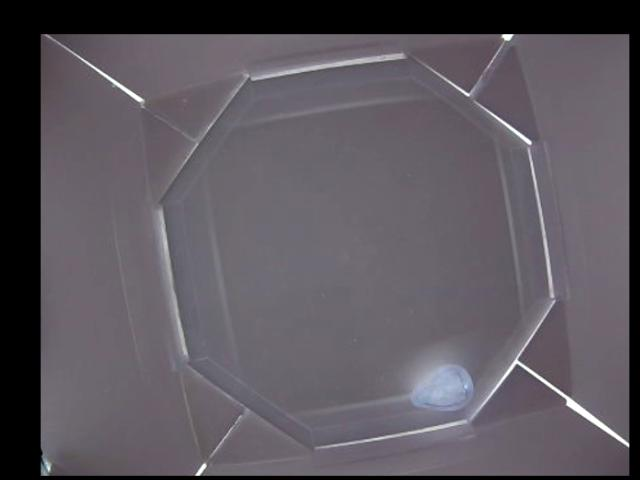Pebble: (407, 362, 472, 409)
